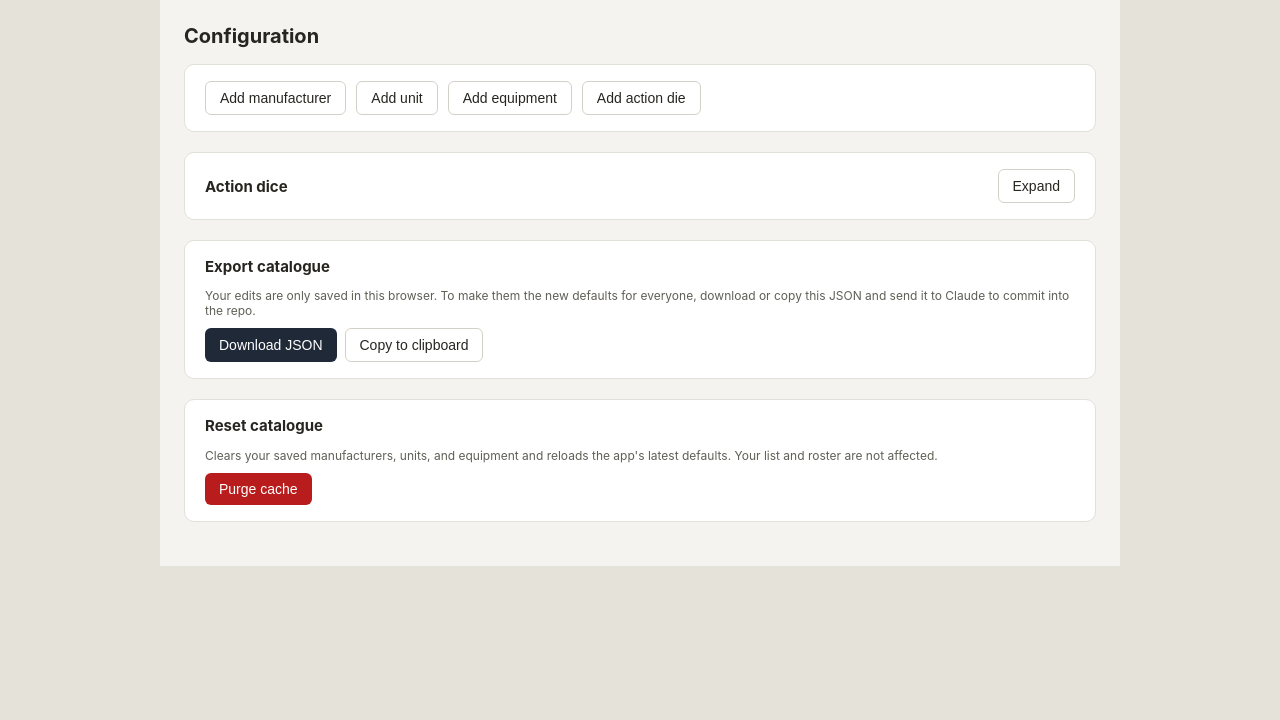
ManagePage › starts collapsed and can be expanded and re-collapsed
Expected: the text "Colour" is not shown
Click the button "Expand" at (1036, 186), box top-left (998, 169), bottom-right (1075, 203)
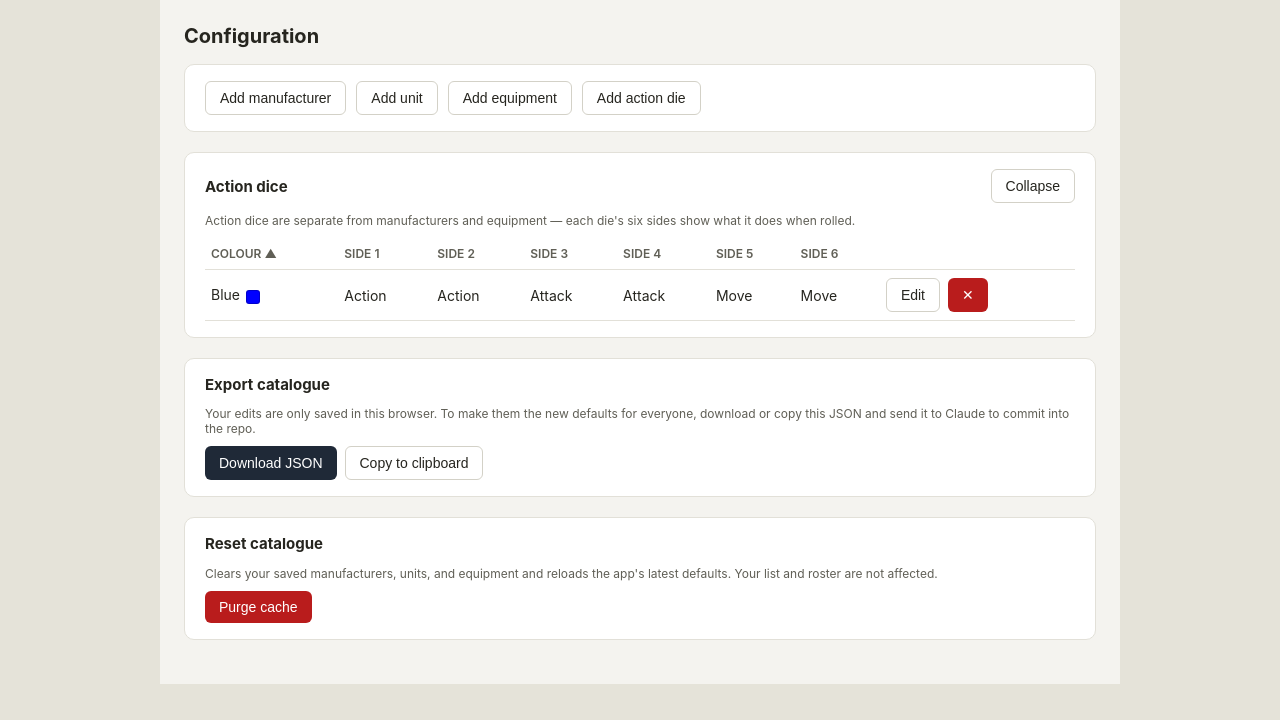
Expected: the column heading "Colour ▲" is shown, top-left (205, 238), bottom-right (338, 270)
Click the button "Collapse" at (1033, 186), box top-left (990, 169), bottom-right (1075, 203)
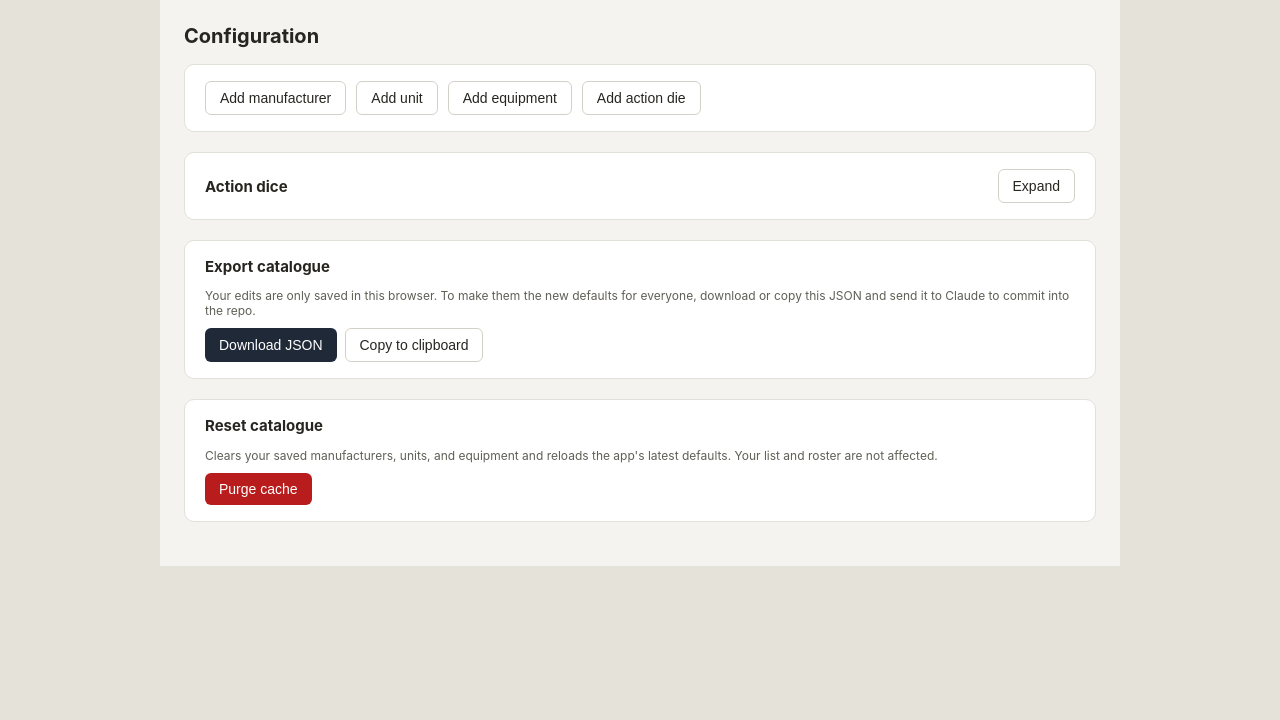
Expected: the column heading "Colour" is gone
